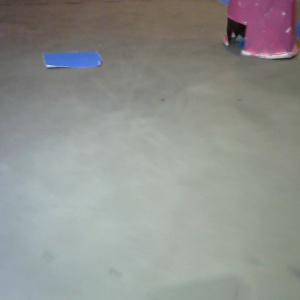right: (222, 1, 300, 59)
